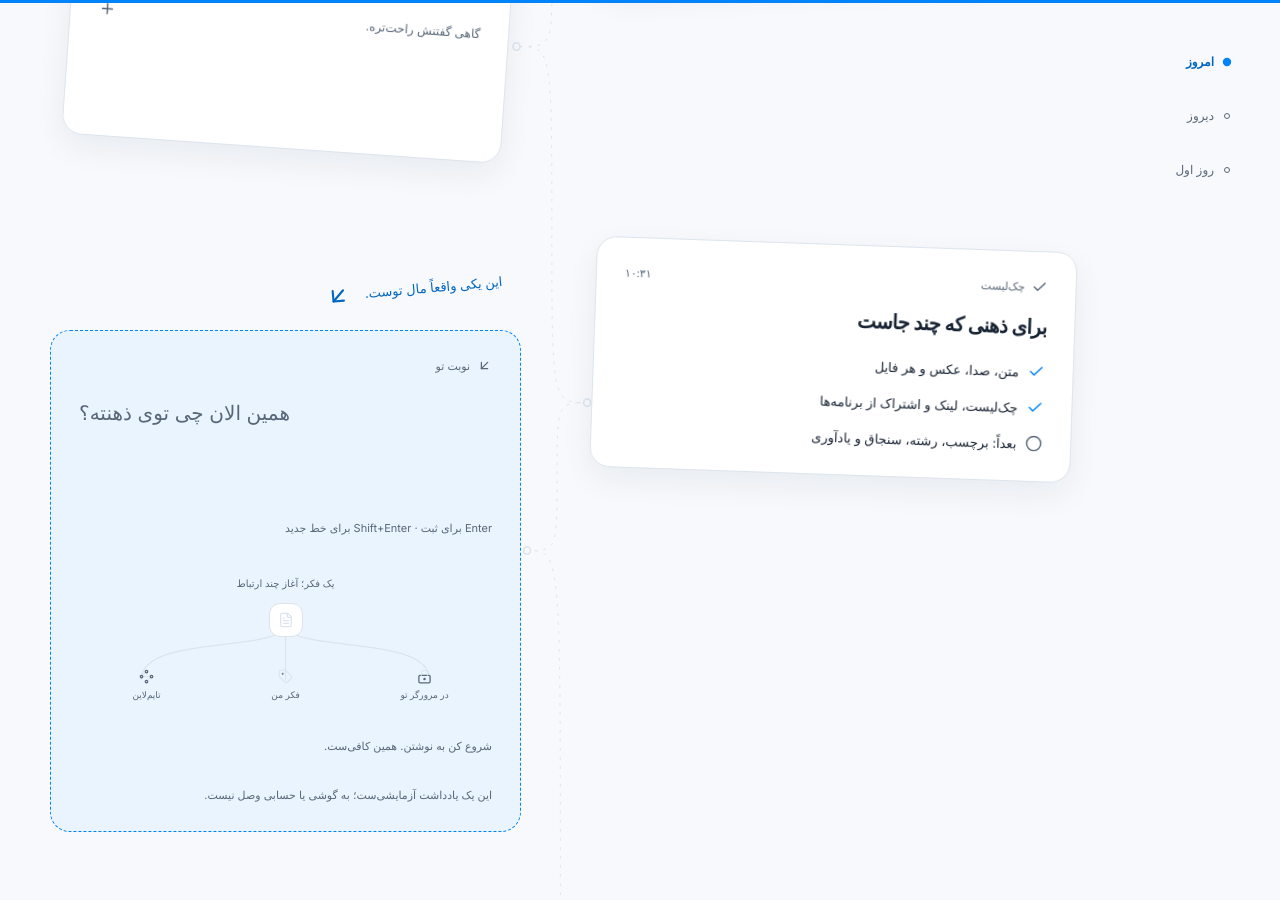
Test: Nex browser-only note › remains usable when reading or writing browser storage is denied
(page scrolled)
Type "فکر من" into the text box at (286,450), box 79,390 -> 492,510
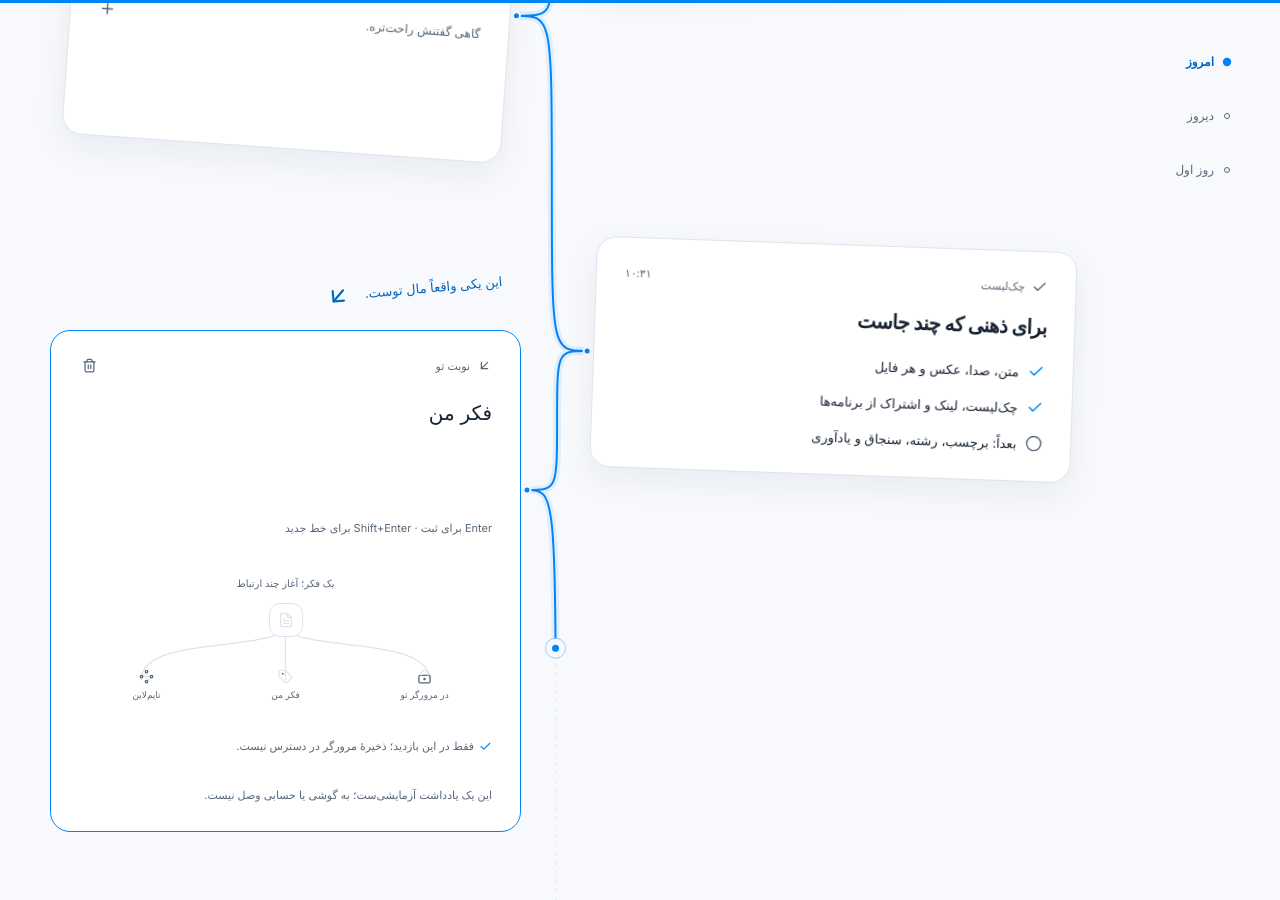
Now the message with id "nex-draft-status" reads "فقط در این بازدید؛ ذخیرهٔ مرورگر در دسترس نیست.", box 236,739 -> 474,753
